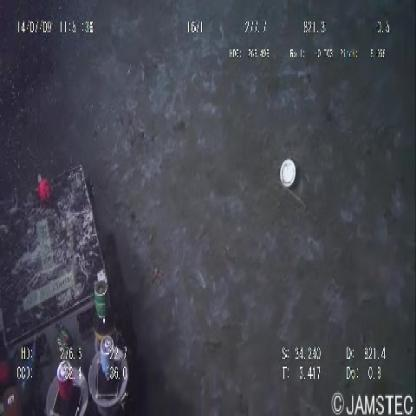Rác: (279, 158, 297, 192)
